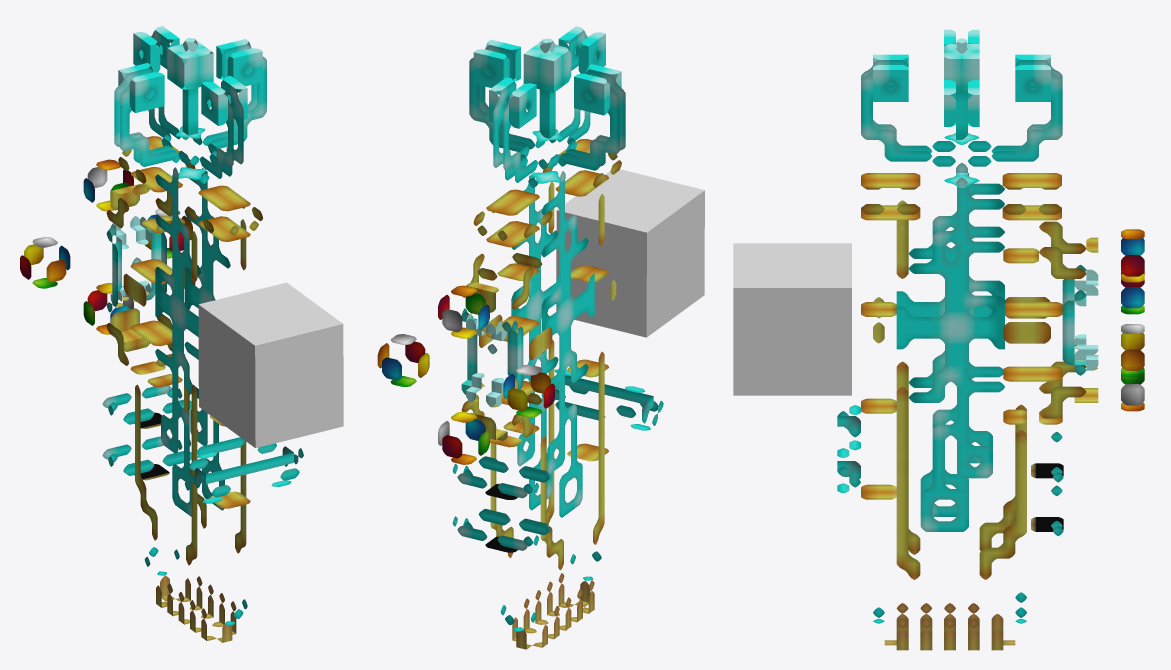
File: Weapon965_Bonus.fbx
The picture shows the model from 3 angles, left to right: view 1: azimuth 30°, elevation 25°; view 2: azimuth 150°, elevation 25°; view 3: azimuth 270°, elevation 25°; orthographic projection. The views are drawn at different scales.
Visible parts, largest first — view 1: Weapon965_Bonus; view 2: Weapon965_Bonus; view 3: Weapon965_Bonus.
Part boxes in pixels (bbox=[...]): Weapon965_Bonus: bbox=[20, 26, 343, 642]; Weapon965_Bonus: bbox=[377, 26, 704, 649]; Weapon965_Bonus: bbox=[733, 29, 1144, 650].
Size of the model in its own units: 0.2657 by 0.8908 by 0.5579.
